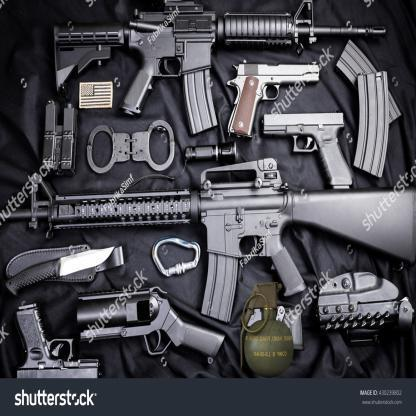Grenade: (240, 280, 294, 377)
Gun: (0, 158, 416, 324), (52, 1, 388, 137)
Knife: (5, 246, 114, 297)
Pistol: (78, 293, 225, 362), (226, 60, 321, 140), (263, 110, 356, 189), (14, 300, 104, 380)
